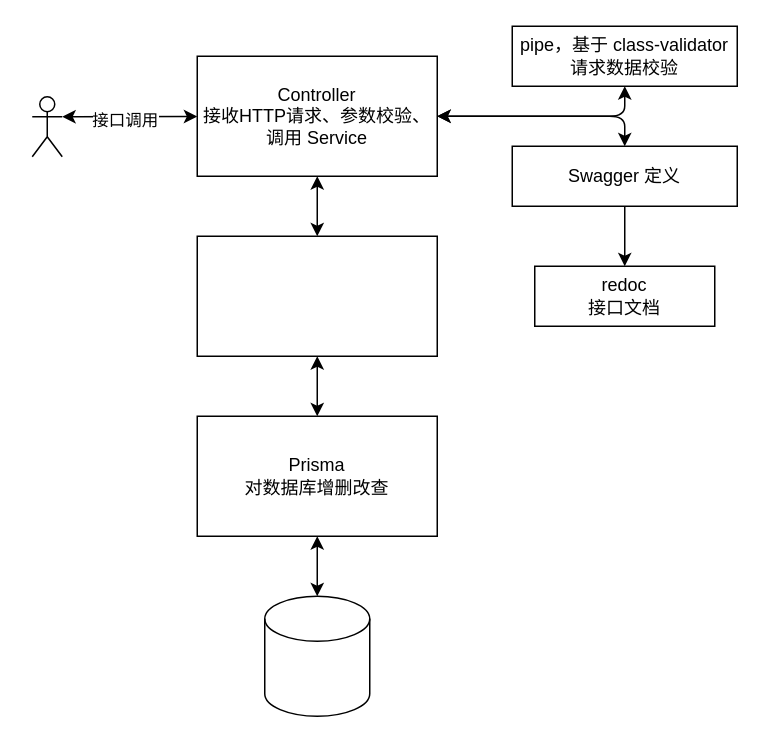
Some shapes in this 764 by 743 pixel diagram are drawn without their labels. The shapes that lost their labels are listed below. From the top down, each one's centre as x and y in pixels, then its label:
point 46,126: client
point 316,295: Service 组合调用 ORM 方法，即 Prisma
point 316,655: PostgreSQL
